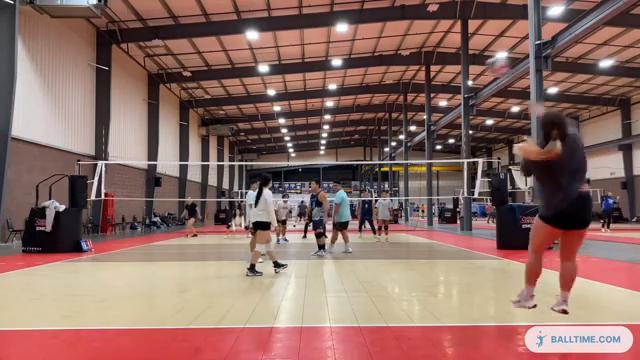battuta: (505, 101, 595, 318)
